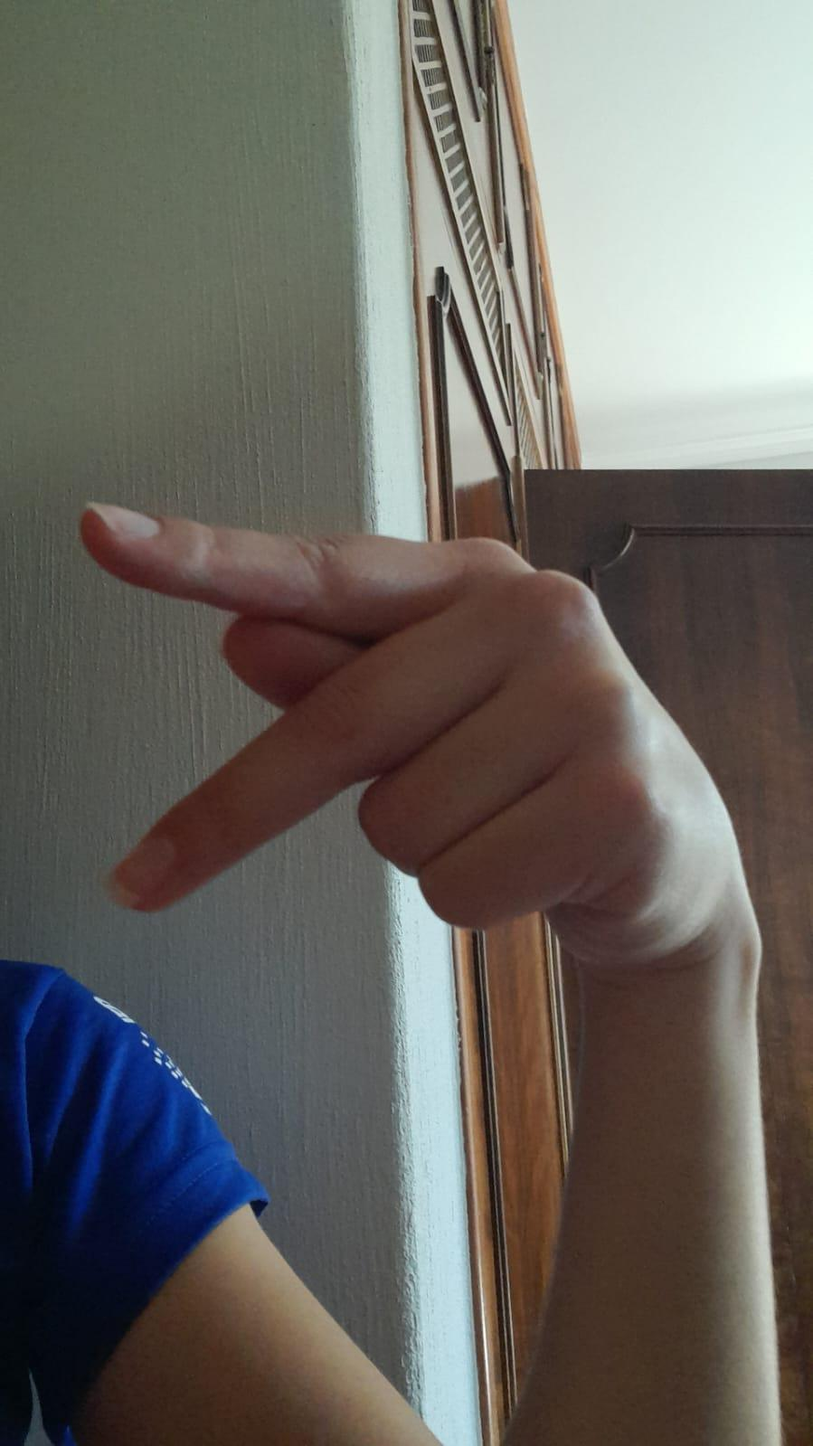P: (63, 470, 723, 977)
